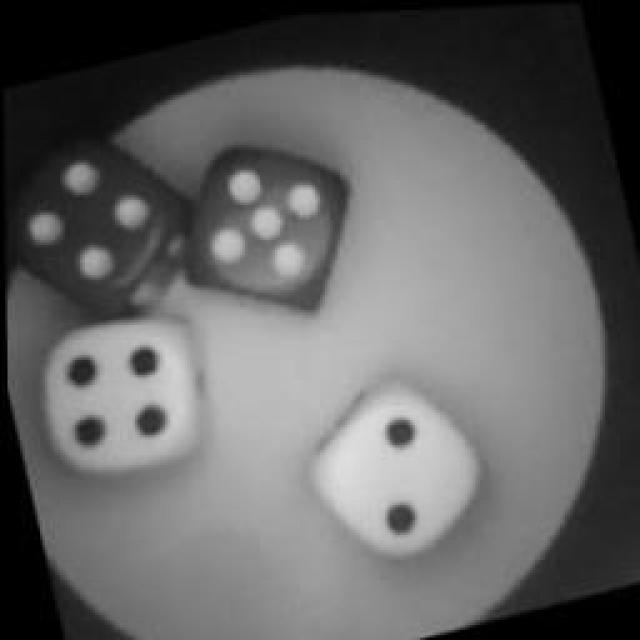dice_2: (288, 360, 504, 580)
dice_4: (0, 99, 200, 324), (18, 284, 228, 488)
dice_5: (162, 114, 378, 338)
